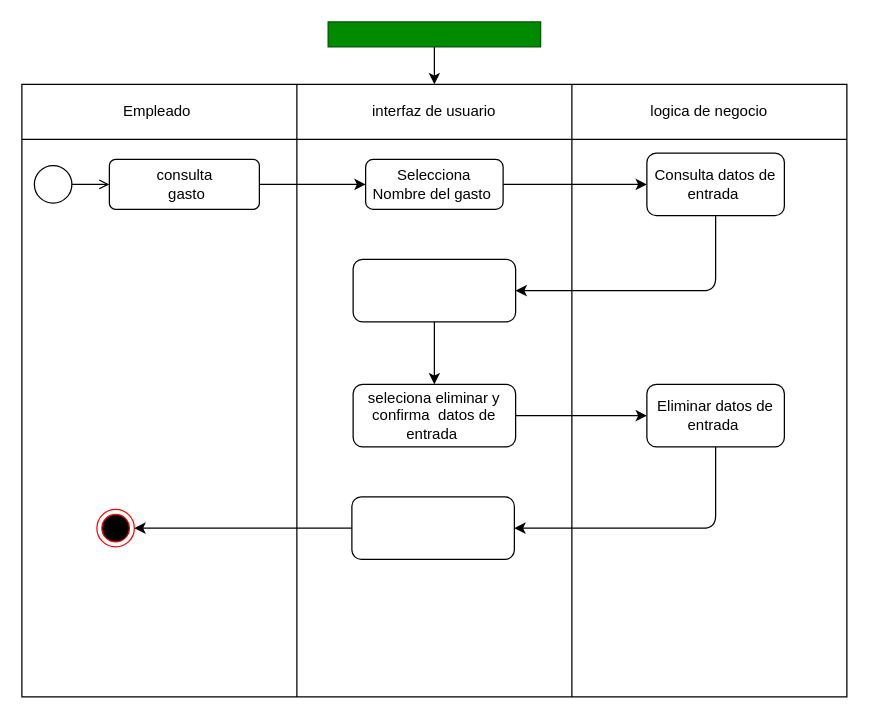
The diagram is 869 pixels wide and 719 high, and some of its shapes have lost their labels. Here are the shapes that lost their labels. From the top down, the centre of each, then its label:
At point (434, 34): "ELIMINAR TIPO DE GASTO".
At point (434, 290): "Muestra datos de entrada".
At point (432, 527): "Muestra datos de entrada almacenados".
